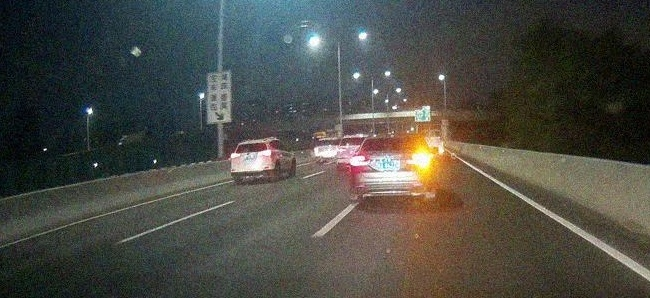L_light: (349, 155, 371, 166), (230, 152, 241, 159)
R_light: (408, 154, 431, 165), (260, 150, 273, 157)
T_light: (385, 138, 399, 141), (248, 143, 256, 146)
night-no: (229, 138, 275, 182)
night-right: (348, 133, 434, 204)
